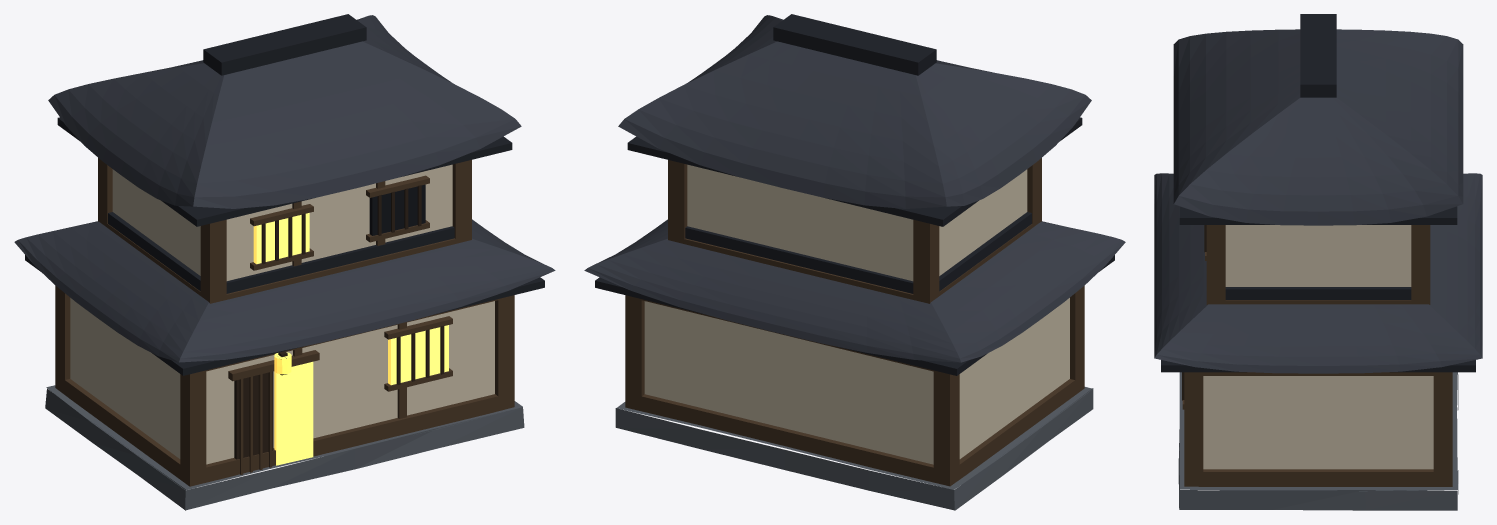
File: 2-20_house_c_large.glb
3 views of the same model, side by side, from view 1: azimuth 30°, elevation 25°; view 2: azimuth 150°, elevation 25°; view 3: azimuth 270°, elevation 25° (orthographic).
Visible parts, largest first — view 1: 民家C（大）; view 2: 民家C（大）; view 3: 民家C（大）.
Part boxes in pixels (x1,y1,x2,y2): 民家C（大）: (14, 14, 555, 510); 民家C（大）: (584, 14, 1125, 510); 民家C（大）: (1154, 14, 1482, 510).
Size of the model in its own units: 7.8 by 7.52 by 5.9.
